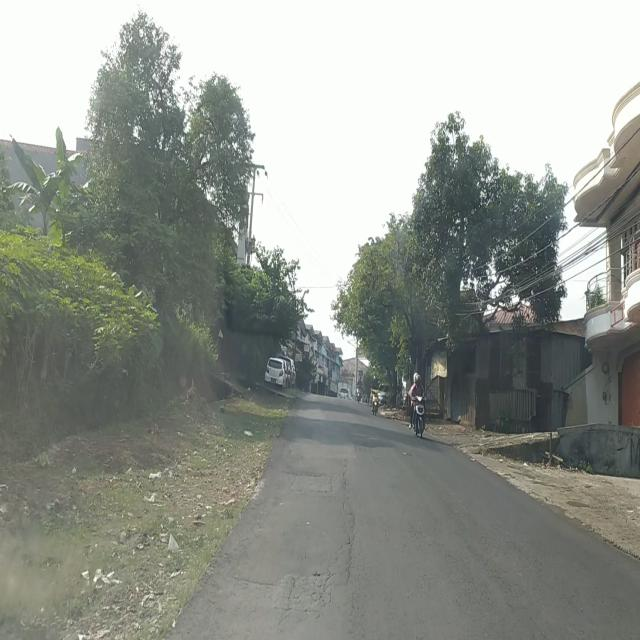Drain Hole: (280, 535, 353, 625), (304, 463, 358, 533)
